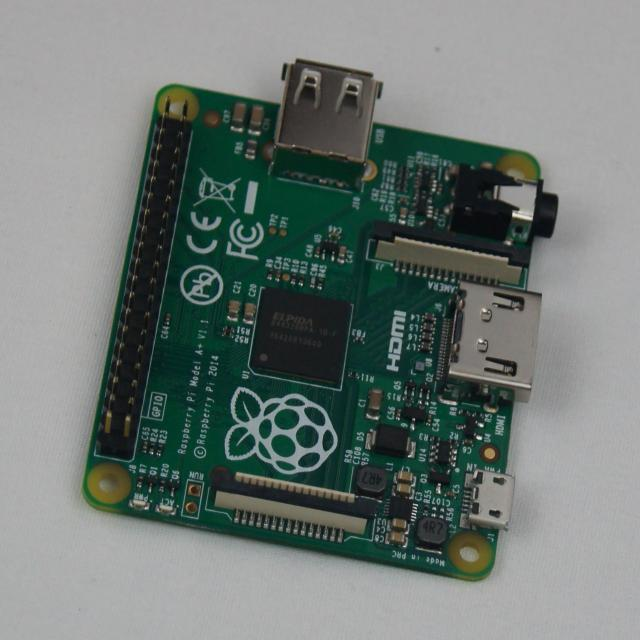Raspberry-Pi-1-A-: (84, 60, 558, 580)
